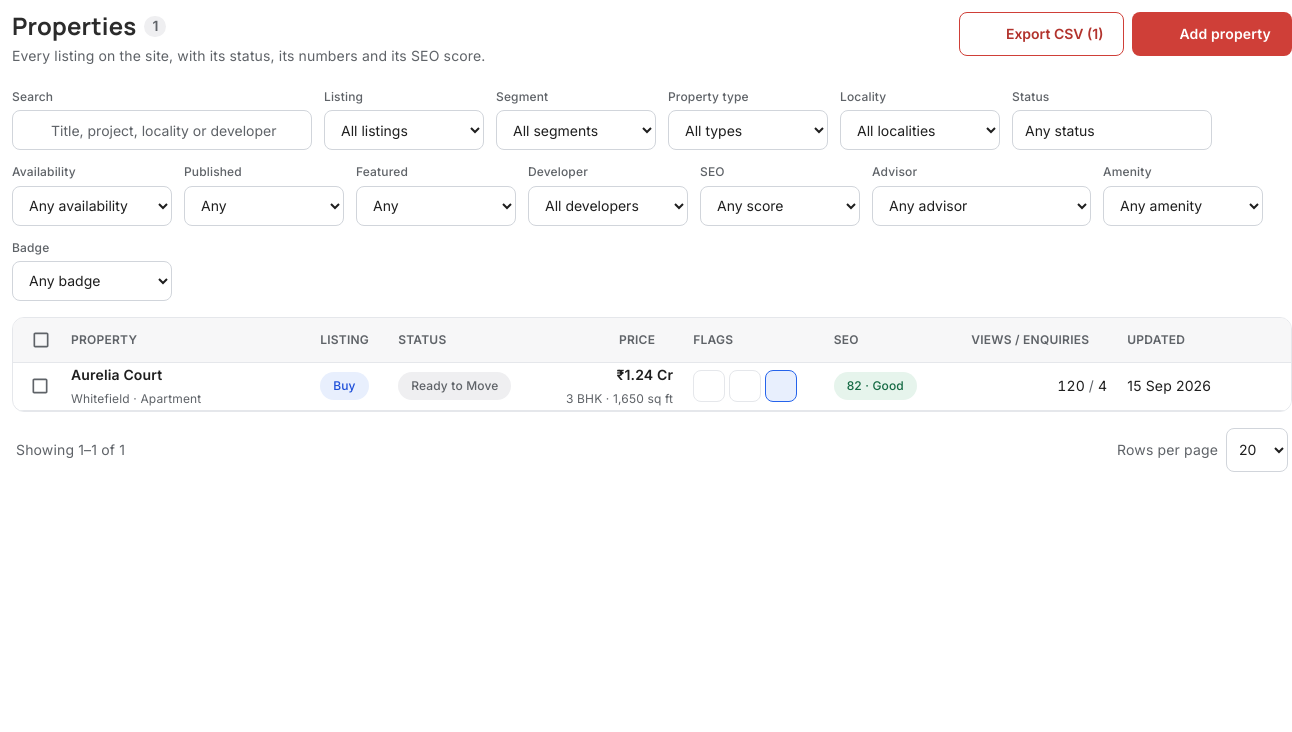
Test: PropertiesListPage › the flag toggles › say a listing featured while unpublished is not on the home page yet (QA-62)
Expected: the link "Aurelia Court" is shown, [71,366,162,383]
Click the button named "Featured — Aurelia Court": [745, 386] box [729,370,761,402]
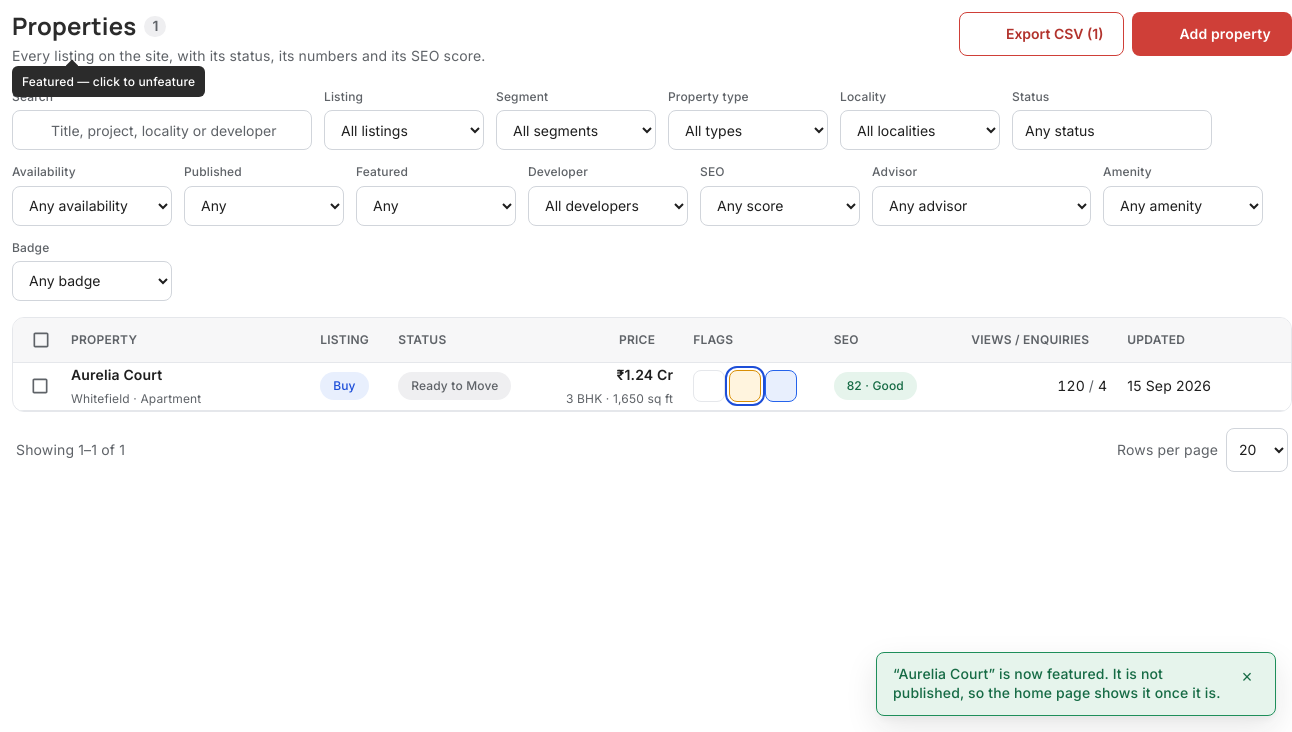
Expected: the text "“Aurelia Court” is now featured. It is not published, so the home page shows it once it is." is shown, [893,665,1220,701]
